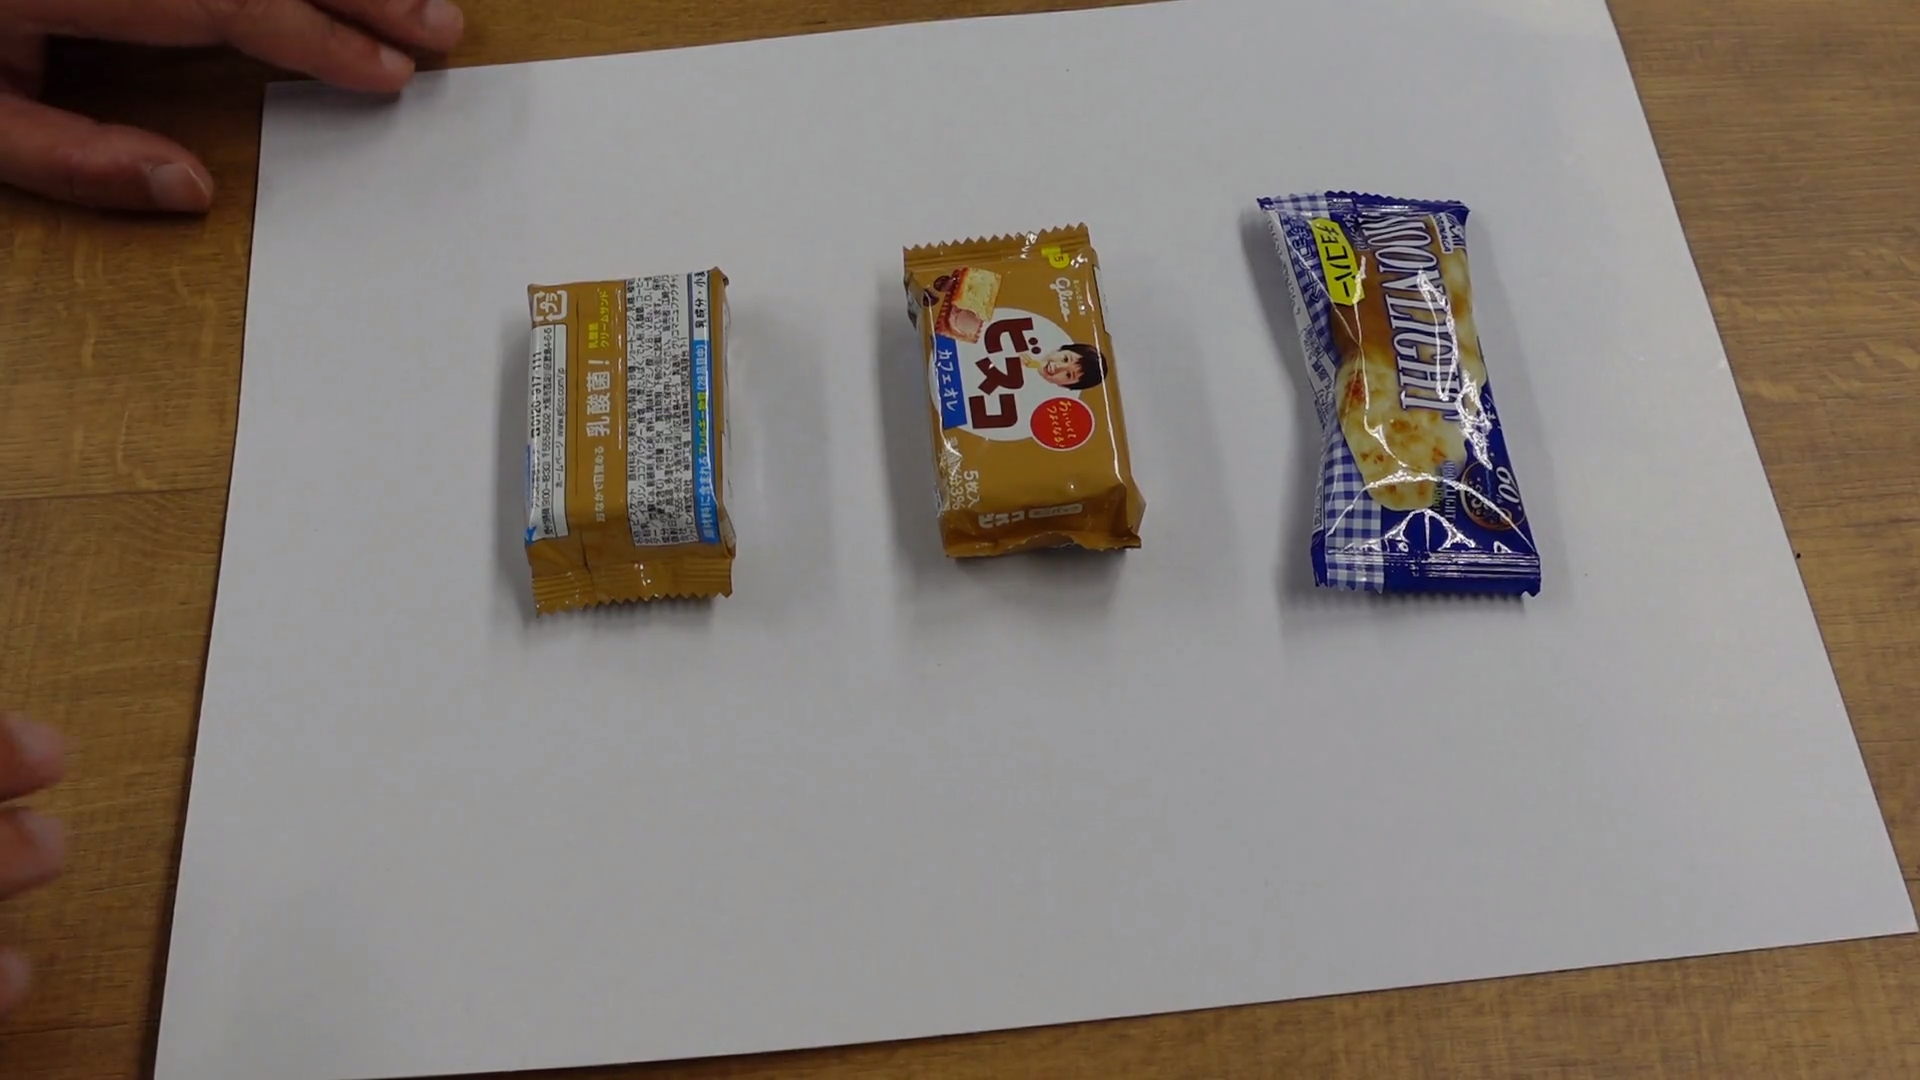BISCO_CafeAuLet: (916, 245, 1139, 558), (526, 276, 731, 603)
